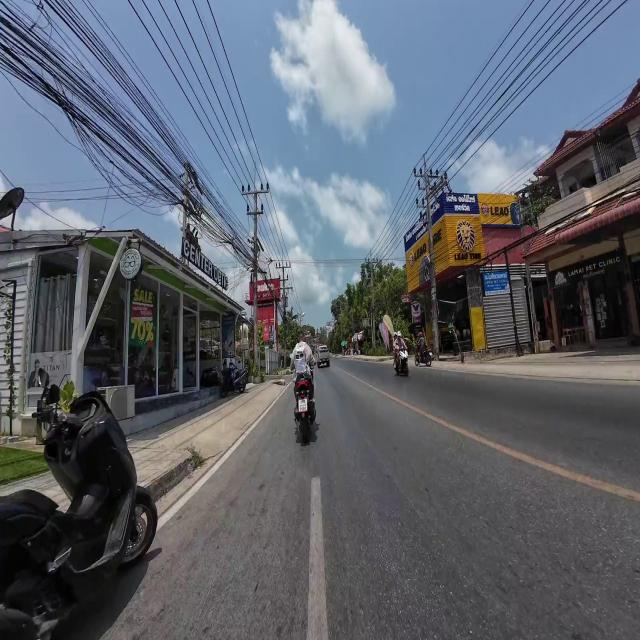car: (317, 345, 329, 367)
motorcycle: (0, 386, 157, 639), (294, 361, 315, 443), (221, 363, 246, 397), (395, 349, 408, 375), (415, 347, 432, 366)
